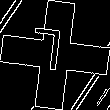L_S: (37, 28, 73, 82)
